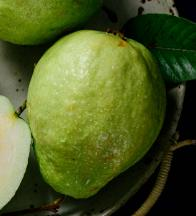guava_B: (25, 28, 167, 210)
